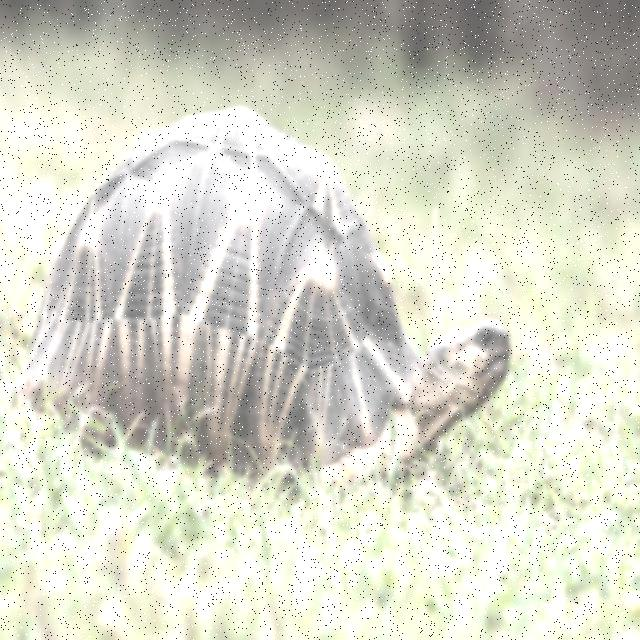tortoise: (31, 100, 522, 502)
